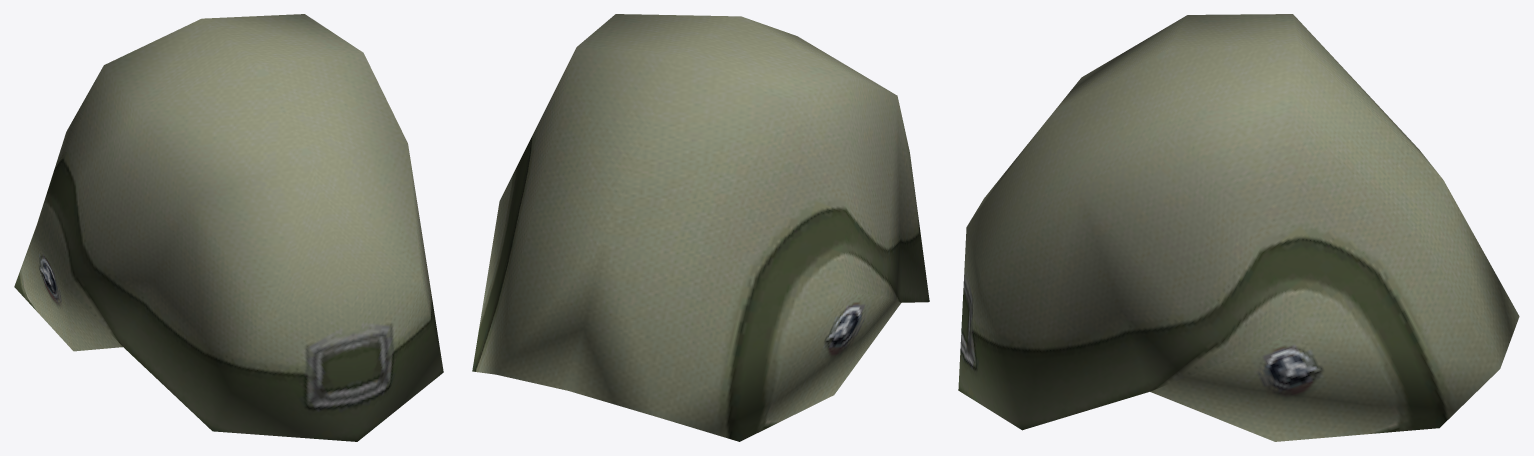
File: Helmet4__FDC.glb
The picture shows the model from 3 angles, left to right: view 1: azimuth 30°, elevation 25°; view 2: azimuth 150°, elevation 25°; view 3: azimuth 270°, elevation 25°; orthographic projection. The views are drawn at different scales.
Parts seen in each view (by area): view 1: Helmet4; view 2: Helmet4; view 3: Helmet4.
Part boxes in pixels (box(x1,y1,x2,y2)): Helmet4: box(14, 14, 443, 441); Helmet4: box(472, 14, 929, 441); Helmet4: box(958, 14, 1519, 441).
Bounding box in the file's own units: 12.19 × 10.84 × 16.01.
1 material, 1 textured.
